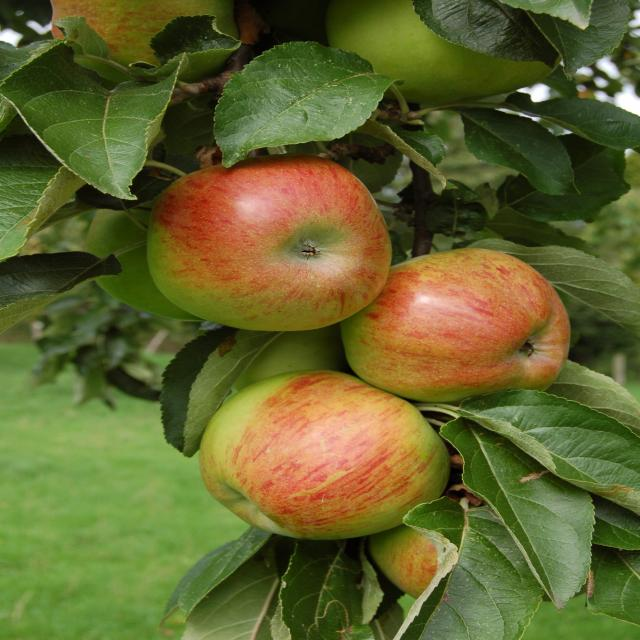Apple: (203, 365, 450, 547), (148, 154, 386, 327), (329, 250, 586, 393)
